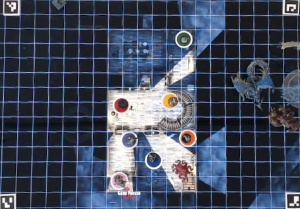blue: (139, 149, 166, 171)
green: (173, 29, 193, 47)
orange: (178, 128, 197, 149)
pink: (109, 169, 130, 192)
red: (111, 96, 129, 116)
violet: (120, 130, 137, 149)
yellow: (160, 90, 178, 111)
